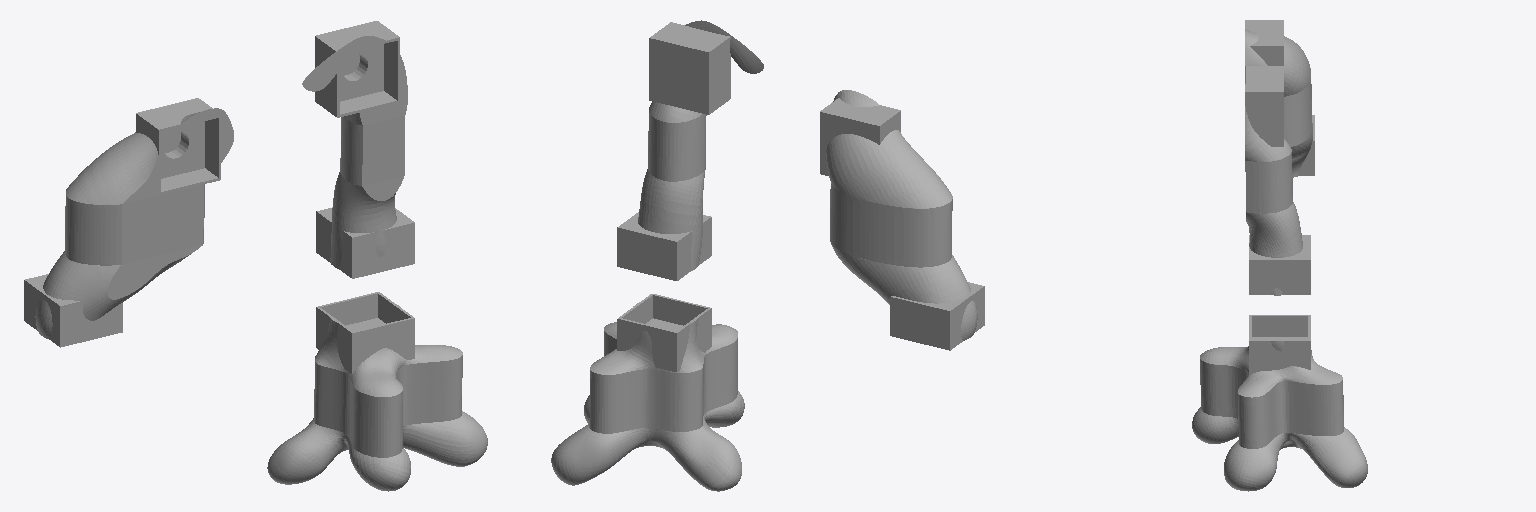
URDF robot description (FrogBot2_top-FrogBot2-y-9_bottom-FrogBot2-y-9):
<?xml version="1.0" ?>
<robot name="FrogBot2_top-FrogBot2-y-9_bottom-FrogBot2-y-9">

<material name="pla_5_percent_infill">
  <color rgba="0.700 0.700 0.700 1.000"/>
</material>

<link name="base_link">
  <inertial>
    <origin xyz="0 0 0" rpy="0 0 0"/>
    <mass value="1.3341577719423"/>
    <inertia ixx="0.0046797925109551535" iyy="0.011134478382956134" izz="0.010477176548232365" ixy="0.00012495104989682066" iyz="8.213962567094231e-05" ixz="-0.002474445058077273"/>
  </inertial>
  <visual>
    <origin xyz="0 0 0" rpy="0 0 0"/>
    <geometry>
      <mesh filename="simple_meshes/base_link.stl" scale="0.001 0.001 0.001"/>
    </geometry>
    <material name="pla_5_percent_infill"/>
  </visual>
  <collision>
    <origin xyz="0 0 0" rpy="0 0 0"/>
    <geometry>
      <mesh filename="simple_meshes/base_link.stl" scale="0.001 0.001 0.001"/>
    </geometry>
  </collision>
</link>

<link name="body_1_0_1">
  <inertial>
    <origin xyz="-0.053395 -0.09218 -0.023663" rpy="0 0 0"/>
    <mass value="0.07047352674434013"/>
    <inertia ixx="0.0001485170882231221" iyy="0.00015185883684204222" izz="2.212722066431477e-05" ixy="-9.465389928483333e-08" iyz="8.143670634996707e-06" ixz="1.093116901144947e-05"/>
  </inertial>
  <visual>
    <origin xyz="-0.053395 -0.09218 -0.023663" rpy="0 0 0"/>
    <geometry>
      <mesh filename="simple_meshes/body_1_0_1.stl" scale="0.001 0.001 0.001"/>
    </geometry>
    <material name="pla_5_percent_infill"/>
  </visual>
  <collision>
    <origin xyz="-0.053395 -0.09218 -0.023663" rpy="0 0 0"/>
    <geometry>
      <mesh filename="simple_meshes/body_1_0_1.stl" scale="0.001 0.001 0.001"/>
    </geometry>
  </collision>
</link>

<link name="body_1_1_1">
  <inertial>
    <origin xyz="0.095032 -0.09218 0.005345" rpy="0 0 0"/>
    <mass value="0.16169543227824865"/>
    <inertia ixx="0.00019569160791942054" iyy="0.00028695523909591904" izz="0.0001507779001767972" ixy="6.760663273315797e-06" iyz="8.20462641714227e-06" ixz="-6.330432505381191e-05"/>
  </inertial>
  <visual>
    <origin xyz="0.095032 -0.09218 0.005345" rpy="0 0 0"/>
    <geometry>
      <mesh filename="simple_meshes/body_1_1_1.stl" scale="0.001 0.001 0.001"/>
    </geometry>
    <material name="pla_5_percent_infill"/>
  </visual>
  <collision>
    <origin xyz="0.095032 -0.09218 0.005345" rpy="0 0 0"/>
    <geometry>
      <mesh filename="simple_meshes/body_1_1_1.stl" scale="0.001 0.001 0.001"/>
    </geometry>
  </collision>
</link>

<link name="body_1_2_1">
  <inertial>
    <origin xyz="-0.041549 0.09218 -0.043945" rpy="0 0 0"/>
    <mass value="0.07444883364373175"/>
    <inertia ixx="0.00022955391745748495" iyy="0.00023440511022529572" izz="3.3182471217816376e-05" ixy="1.2989943216764818e-06" iyz="-2.6274185349306554e-05" ixz="2.5826743049223394e-05"/>
  </inertial>
  <visual>
    <origin xyz="-0.041549 0.09218 -0.043945" rpy="0 0 0"/>
    <geometry>
      <mesh filename="simple_meshes/body_1_2_1.stl" scale="0.001 0.001 0.001"/>
    </geometry>
    <material name="pla_5_percent_infill"/>
  </visual>
  <collision>
    <origin xyz="-0.041549 0.09218 -0.043945" rpy="0 0 0"/>
    <geometry>
      <mesh filename="simple_meshes/body_1_2_1.stl" scale="0.001 0.001 0.001"/>
    </geometry>
  </collision>
</link>

<link name="body_1_3_1">
  <inertial>
    <origin xyz="0.087142 0.09218 -0.003397" rpy="0 0 0"/>
    <mass value="0.16608898560599442"/>
    <inertia ixx="0.00020185944955806306" iyy="0.0002914213962494257" izz="0.00015346728422620335" ixy="-1.208330255057441e-05" iyz="-8.368867738856815e-06" ixz="-6.355684857694015e-05"/>
  </inertial>
  <visual>
    <origin xyz="0.087142 0.09218 -0.003397" rpy="0 0 0"/>
    <geometry>
      <mesh filename="simple_meshes/body_1_3_1.stl" scale="0.001 0.001 0.001"/>
    </geometry>
    <material name="pla_5_percent_infill"/>
  </visual>
  <collision>
    <origin xyz="0.087142 0.09218 -0.003397" rpy="0 0 0"/>
    <geometry>
      <mesh filename="simple_meshes/body_1_3_1.stl" scale="0.001 0.001 0.001"/>
    </geometry>
  </collision>
</link>

<link name="body_2_0_1">
  <inertial>
    <origin xyz="-0.065654 -0.139685 0.139558" rpy="0 0 0"/>
    <mass value="0.18849795289272245"/>
    <inertia ixx="0.0002717618898924277" iyy="0.0002669204037362219" izz="0.0002964282151715694" ixy="-2.4950427295666443e-05" iyz="1.5797448552745848e-05" ixz="1.193773639460334e-05"/>
  </inertial>
  <visual>
    <origin xyz="-0.065654 -0.139685 0.139558" rpy="0 0 0"/>
    <geometry>
      <mesh filename="simple_meshes/body_2_0_1.stl" scale="0.001 0.001 0.001"/>
    </geometry>
    <material name="pla_5_percent_infill"/>
  </visual>
  <collision>
    <origin xyz="-0.065654 -0.139685 0.139558" rpy="0 0 0"/>
    <geometry>
      <mesh filename="simple_meshes/body_2_0_1.stl" scale="0.001 0.001 0.001"/>
    </geometry>
  </collision>
</link>

<link name="body_2_1_1">
  <inertial>
    <origin xyz="0.15751 -0.143533 0.139558" rpy="0 0 0"/>
    <mass value="0.12364884708803942"/>
    <inertia ixx="0.00015748674194457878" iyy="0.000179287636287679" izz="0.00011869243835818232" ixy="-1.738755164189254e-07" iyz="3.531295923124046e-05" ixz="1.94716334733034e-05"/>
  </inertial>
  <visual>
    <origin xyz="0.15751 -0.143533 0.139558" rpy="0 0 0"/>
    <geometry>
      <mesh filename="simple_meshes/body_2_1_1.stl" scale="0.001 0.001 0.001"/>
    </geometry>
    <material name="pla_5_percent_infill"/>
  </visual>
  <collision>
    <origin xyz="0.15751 -0.143533 0.139558" rpy="0 0 0"/>
    <geometry>
      <mesh filename="simple_meshes/body_2_1_1.stl" scale="0.001 0.001 0.001"/>
    </geometry>
  </collision>
</link>

<link name="body_2_2_1">
  <inertial>
    <origin xyz="-0.061161 0.145934 0.139558" rpy="0 0 0"/>
    <mass value="0.16577277985741495"/>
    <inertia ixx="0.00022824677288353634" iyy="0.00024206542414671045" izz="0.00024975230873802365" ixy="1.0894944802603999e-05" iyz="-6.9462009048898085e-06" ixz="2.4824213775949747e-06"/>
  </inertial>
  <visual>
    <origin xyz="-0.061161 0.145934 0.139558" rpy="0 0 0"/>
    <geometry>
      <mesh filename="simple_meshes/body_2_2_1.stl" scale="0.001 0.001 0.001"/>
    </geometry>
    <material name="pla_5_percent_infill"/>
  </visual>
  <collision>
    <origin xyz="-0.061161 0.145934 0.139558" rpy="0 0 0"/>
    <geometry>
      <mesh filename="simple_meshes/body_2_2_1.stl" scale="0.001 0.001 0.001"/>
    </geometry>
  </collision>
</link>

<link name="body_2_3_1">
  <inertial>
    <origin xyz="0.160089 0.145768 0.139558" rpy="0 0 0"/>
    <mass value="0.11474808622742036"/>
    <inertia ixx="0.00016511608655058602" iyy="0.0001715925421280854" izz="0.00011594220202844167" ixy="-6.646067416518891e-06" iyz="-4.1867380452614844e-05" ixz="2.0342538535847443e-05"/>
  </inertial>
  <visual>
    <origin xyz="0.160089 0.145768 0.139558" rpy="0 0 0"/>
    <geometry>
      <mesh filename="simple_meshes/body_2_3_1.stl" scale="0.001 0.001 0.001"/>
    </geometry>
    <material name="pla_5_percent_infill"/>
  </visual>
  <collision>
    <origin xyz="0.160089 0.145768 0.139558" rpy="0 0 0"/>
    <geometry>
      <mesh filename="simple_meshes/body_2_3_1.stl" scale="0.001 0.001 0.001"/>
    </geometry>
  </collision>
</link>

<joint name="joint_1_0" type="revolute">
  <origin xyz="0.053395 0.09218 0.023663" rpy="0 0 0"/>
  <parent link="base_link"/>
  <child link="body_1_0_1"/>
  <axis xyz="0.0 0.0 -1.0"/>
  <limit upper="1.2" lower="-1.2" effort="3.8" velocity="5.4"/>
</joint>
<transmission name="joint_1_0_tran">
  <type>transmission_interface/SimpleTransmission</type>
  <joint name="joint_1_0">
    <hardwareInterface>PositionJointInterface</hardwareInterface>
  </joint>
  <actuator name="joint_1_0_actr">
    <hardwareInterface>PositionJointInterface</hardwareInterface>
    <mechanicalReduction>1</mechanicalReduction>
  </actuator>
</transmission>

<joint name="joint_1_1" type="revolute">
  <origin xyz="-0.095032 0.09218 -0.005345" rpy="0 0 0"/>
  <parent link="base_link"/>
  <child link="body_1_1_1"/>
  <axis xyz="0.0 0.0 -1.0"/>
  <limit upper="1.2" lower="-1.2" effort="3.8" velocity="5.4"/>
</joint>
<transmission name="joint_1_1_tran">
  <type>transmission_interface/SimpleTransmission</type>
  <joint name="joint_1_1">
    <hardwareInterface>PositionJointInterface</hardwareInterface>
  </joint>
  <actuator name="joint_1_1_actr">
    <hardwareInterface>PositionJointInterface</hardwareInterface>
    <mechanicalReduction>1</mechanicalReduction>
  </actuator>
</transmission>

<joint name="joint_1_2" type="revolute">
  <origin xyz="0.041549 -0.09218 0.043945" rpy="0 0 0"/>
  <parent link="base_link"/>
  <child link="body_1_2_1"/>
  <axis xyz="0.0 0.0 -1.0"/>
  <limit upper="1.2" lower="-1.2" effort="3.8" velocity="5.4"/>
</joint>
<transmission name="joint_1_2_tran">
  <type>transmission_interface/SimpleTransmission</type>
  <joint name="joint_1_2">
    <hardwareInterface>PositionJointInterface</hardwareInterface>
  </joint>
  <actuator name="joint_1_2_actr">
    <hardwareInterface>PositionJointInterface</hardwareInterface>
    <mechanicalReduction>1</mechanicalReduction>
  </actuator>
</transmission>

<joint name="joint_1_3" type="revolute">
  <origin xyz="-0.087142 -0.09218 0.003397" rpy="0 0 0"/>
  <parent link="base_link"/>
  <child link="body_1_3_1"/>
  <axis xyz="0.0 0.0 -1.0"/>
  <limit upper="1.2" lower="-1.2" effort="3.8" velocity="5.4"/>
</joint>
<transmission name="joint_1_3_tran">
  <type>transmission_interface/SimpleTransmission</type>
  <joint name="joint_1_3">
    <hardwareInterface>PositionJointInterface</hardwareInterface>
  </joint>
  <actuator name="joint_1_3_actr">
    <hardwareInterface>PositionJointInterface</hardwareInterface>
    <mechanicalReduction>1</mechanicalReduction>
  </actuator>
</transmission>

<joint name="joint_2_0" type="revolute">
  <origin xyz="0.012259 0.047505 -0.163221" rpy="0 0 0"/>
  <parent link="body_1_0_1"/>
  <child link="body_2_0_1"/>
  <axis xyz="0.0 1.0 0.0"/>
  <limit upper="1.2" lower="-1.2" effort="3.8" velocity="5.4"/>
</joint>
<transmission name="joint_2_0_tran">
  <type>transmission_interface/SimpleTransmission</type>
  <joint name="joint_2_0">
    <hardwareInterface>PositionJointInterface</hardwareInterface>
  </joint>
  <actuator name="joint_2_0_actr">
    <hardwareInterface>PositionJointInterface</hardwareInterface>
    <mechanicalReduction>1</mechanicalReduction>
  </actuator>
</transmission>

<joint name="joint_2_1" type="revolute">
  <origin xyz="-0.062478 0.051353 -0.134213" rpy="0 0 0"/>
  <parent link="body_1_1_1"/>
  <child link="body_2_1_1"/>
  <axis xyz="0.0 1.0 0.0"/>
  <limit upper="1.2" lower="-1.2" effort="3.8" velocity="5.4"/>
</joint>
<transmission name="joint_2_1_tran">
  <type>transmission_interface/SimpleTransmission</type>
  <joint name="joint_2_1">
    <hardwareInterface>PositionJointInterface</hardwareInterface>
  </joint>
  <actuator name="joint_2_1_actr">
    <hardwareInterface>PositionJointInterface</hardwareInterface>
    <mechanicalReduction>1</mechanicalReduction>
  </actuator>
</transmission>

<joint name="joint_2_2" type="revolute">
  <origin xyz="0.019612 -0.053754 -0.183503" rpy="0 0 0"/>
  <parent link="body_1_2_1"/>
  <child link="body_2_2_1"/>
  <axis xyz="0.0 1.0 0.0"/>
  <limit upper="1.2" lower="-1.2" effort="3.8" velocity="5.4"/>
</joint>
<transmission name="joint_2_2_tran">
  <type>transmission_interface/SimpleTransmission</type>
  <joint name="joint_2_2">
    <hardwareInterface>PositionJointInterface</hardwareInterface>
  </joint>
  <actuator name="joint_2_2_actr">
    <hardwareInterface>PositionJointInterface</hardwareInterface>
    <mechanicalReduction>1</mechanicalReduction>
  </actuator>
</transmission>

<joint name="joint_2_3" type="revolute">
  <origin xyz="-0.072947 -0.053588 -0.142955" rpy="0 0 0"/>
  <parent link="body_1_3_1"/>
  <child link="body_2_3_1"/>
  <axis xyz="0.0 1.0 0.0"/>
  <limit upper="1.2" lower="-1.2" effort="3.8" velocity="5.4"/>
</joint>
<transmission name="joint_2_3_tran">
  <type>transmission_interface/SimpleTransmission</type>
  <joint name="joint_2_3">
    <hardwareInterface>PositionJointInterface</hardwareInterface>
  </joint>
  <actuator name="joint_2_3_actr">
    <hardwareInterface>PositionJointInterface</hardwareInterface>
    <mechanicalReduction>1</mechanicalReduction>
  </actuator>
</transmission>

</robot>

--- Facts derived from the render (not from the file) ---
The picture shows the robot from 3 angles, left to right: view 1: azimuth 30°, elevation 25°; view 2: azimuth 150°, elevation 25°; view 3: azimuth 270°, elevation 25°; orthographic projection.
Robot: FrogBot2_top-FrogBot2-y-9_bottom-FrogBot2-y-9 — 9 links, 8 joints (8 revolute); root link base_link; default pose: every joint at zero.
Visible links, largest first — view 1: body_1_1_1, body_2_0_1, body_1_0_1; view 2: body_1_1_1, body_2_0_1, body_1_0_1; view 3: body_2_0_1, body_1_0_1, body_1_1_1.
Boxes of the visible links, x1,y1,x2,y2 form: body_1_1_1: (24,98,233,347); body_2_0_1: (267,292,487,491); body_1_0_1: (302,21,414,278); body_1_1_1: (820,90,984,350); body_2_0_1: (551,294,744,491); body_1_0_1: (617,20,763,280); body_2_0_1: (1192,315,1367,491); body_1_0_1: (1245,66,1310,295); body_1_1_1: (1245,20,1314,177).
Bounding box of the posed robot: 0.3278 × 0.1395 × 0.3371 m (x, y, z).
3 mesh visuals loaded from 9 distinct referenced files (3 binary STL); not drawn: 6 (reference not matched to a file when rendering).